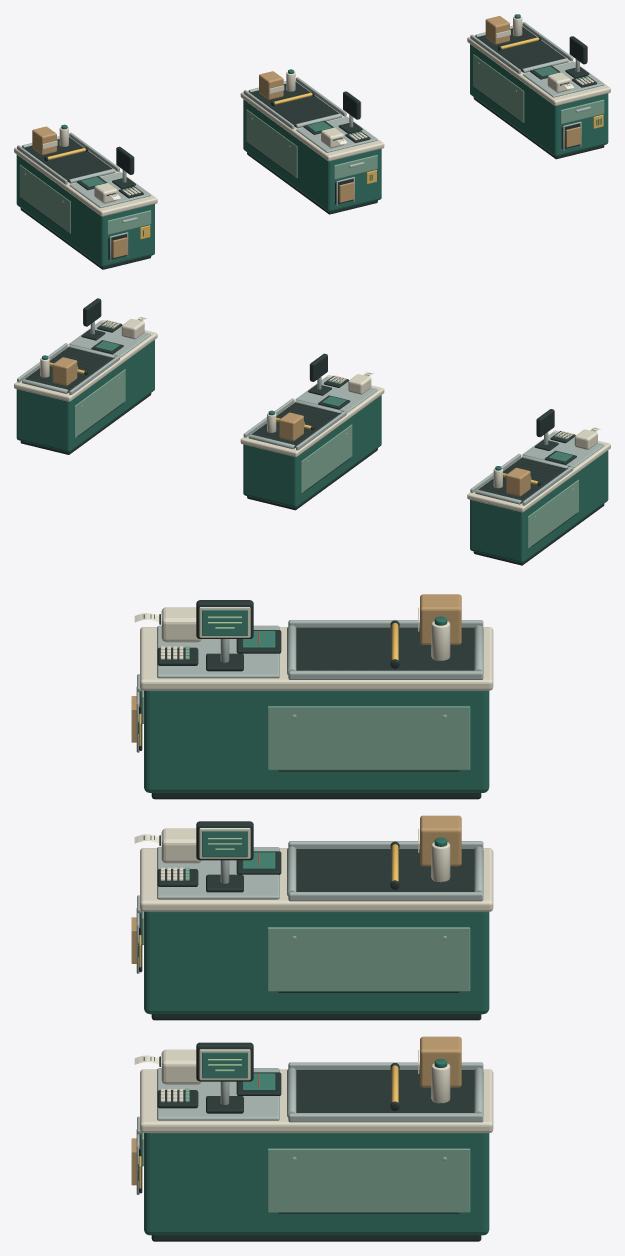
Rendered from MarketCheckoutDetails.fbx.
3 renders of one model, top to bottom at view 1: azimuth 30°, elevation 25°; view 2: azimuth 150°, elevation 25°; view 3: azimuth 270°, elevation 25°, orthographic. The views are drawn at different scales.
Parts seen in each view (by area): view 1: Checkout_Cabinet.002, Checkout_Cabinet.001, Checkout_Cabinet, Checkout_ServicePanel, Checkout_ServicePanel.002, Checkout_ServicePanel.004, Checkout_Belt.001, Checkout_Belt, Checkout_Belt.002, Checkout_UpperRim, Checkout_UpperRim.001, Checkout_UpperRim.002 (+18 smaller); view 2: Checkout_Cabinet.001, Checkout_Cabinet.002, Checkout_Cabinet, Checkout_ServicePanel.004, Checkout_ServicePanel.002, Checkout_ServicePanel, Checkout_Belt.002, Checkout_Belt, Checkout_Belt.001, Checkout_UpperRim.001, Checkout_UpperRim.002, Checkout_UpperRim (+15 smaller); view 3: Checkout_Cabinet.001, Checkout_Cabinet, Checkout_Cabinet.002, Checkout_ServicePanel.003, Checkout_ServicePanel.005, Checkout_ServicePanel.001, Checkout_Belt, Checkout_Belt.001, Checkout_Belt.002, Checkout_UpperRim.001, Checkout_UpperRim.002, Checkout_UpperRim (+21 smaller).
Part boxes in pixels (bbox=[...]): Checkout_Cabinet.002: bbox=[470, 44, 608, 156]; Checkout_Cabinet.001: bbox=[243, 99, 381, 211]; Checkout_Cabinet: bbox=[16, 155, 154, 267]; Checkout_ServicePanel: bbox=[19, 164, 70, 233]; Checkout_ServicePanel.002: bbox=[246, 109, 297, 177]; Checkout_ServicePanel.004: bbox=[473, 54, 524, 122]; Checkout_Belt.001: bbox=[249, 82, 338, 126]; Checkout_Belt: bbox=[22, 137, 112, 182]; Checkout_Belt.002: bbox=[475, 26, 565, 71]; Checkout_UpperRim: bbox=[14, 135, 157, 216]; Checkout_UpperRim.001: bbox=[240, 79, 384, 161]; Checkout_UpperRim.002: bbox=[467, 24, 610, 105]; Checkout_Cabinet.001: bbox=[243, 395, 381, 507]; Checkout_Cabinet.002: bbox=[16, 340, 154, 452]; Checkout_Cabinet: bbox=[470, 450, 608, 562]; Checkout_ServicePanel.004: bbox=[74, 369, 125, 437]; Checkout_ServicePanel.002: bbox=[301, 424, 352, 492]; Checkout_ServicePanel: bbox=[528, 479, 578, 548]; Checkout_Belt.002: bbox=[25, 347, 114, 393]; Checkout_Belt: bbox=[478, 457, 567, 503]; Checkout_Belt.001: bbox=[251, 402, 340, 448]; Checkout_UpperRim.001: bbox=[240, 375, 384, 456]; Checkout_UpperRim.002: bbox=[14, 320, 157, 401]; Checkout_UpperRim: bbox=[467, 430, 610, 512]; Checkout_Cabinet.001: bbox=[144, 911, 489, 1014]; Checkout_Cabinet: bbox=[144, 690, 489, 792]; Checkout_Cabinet.002: bbox=[144, 1133, 489, 1235]; Checkout_ServicePanel.003: bbox=[267, 927, 470, 991]; Checkout_ServicePanel.005: bbox=[267, 1148, 470, 1212]; Checkout_ServicePanel.001: bbox=[267, 706, 470, 770]; Checkout_Belt: bbox=[296, 627, 474, 670]; Checkout_Belt.001: bbox=[296, 849, 474, 891]; Checkout_Belt.002: bbox=[296, 1070, 474, 1112]; Checkout_UpperRim.001: bbox=[140, 848, 493, 911]; Checkout_UpperRim.002: bbox=[140, 1069, 493, 1132]; Checkout_UpperRim: bbox=[140, 627, 493, 690].
Bounding box in the file's own units: 9.01 × 1.61 × 2.76.
